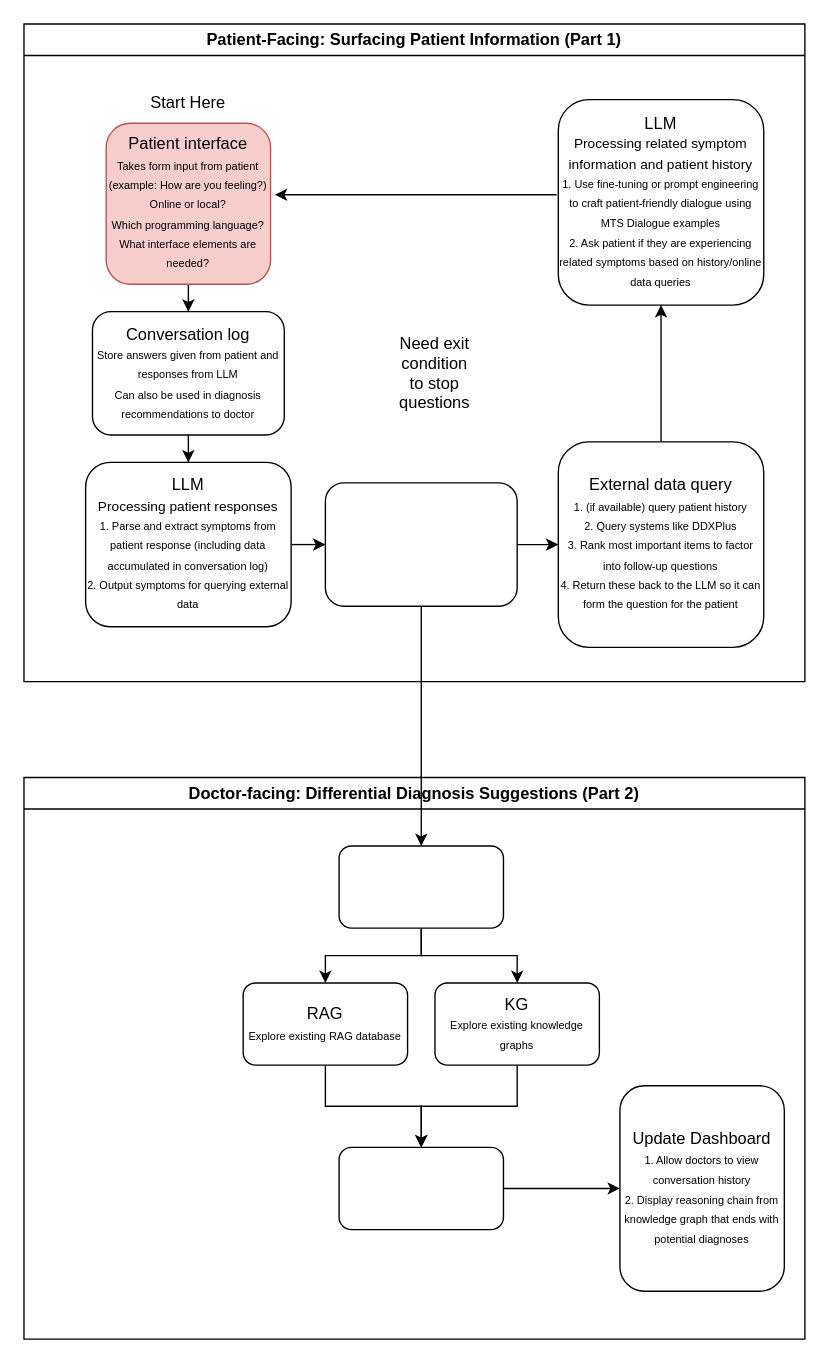
Some shapes in this 829 by 1363 pixel diagram are drawn without their labels. Here are the shapes that lost their labels. From the top down, the centre of each, then its label:
At point 420,544: "Conversation log Store symptoms of patient".
At point 420,886: "Conversation log Retrieve conversation history and symtoms".
At point 420,1188: "Process / Rank Symptoms and Diagnosis".
